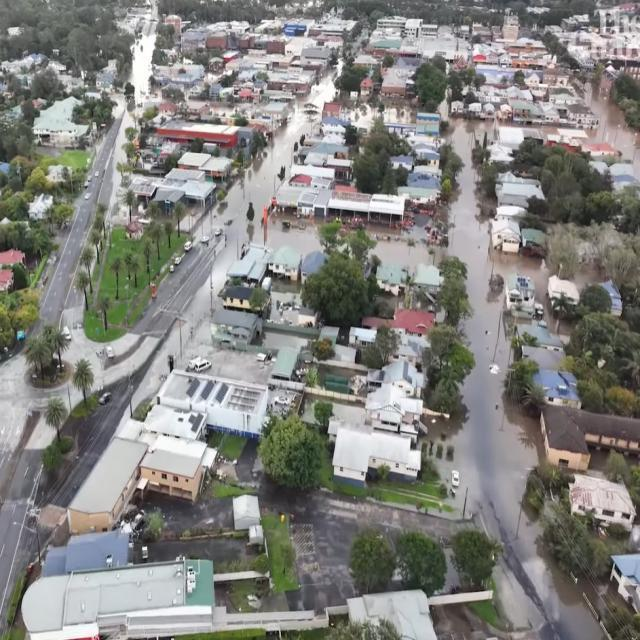flood: (449, 119, 608, 640), (221, 75, 335, 262), (587, 89, 640, 170), (369, 226, 440, 272), (267, 217, 321, 256), (130, 27, 156, 104), (212, 245, 234, 314)
house: (33, 549, 218, 635), (61, 438, 150, 533), (160, 371, 265, 438), (330, 414, 426, 487), (138, 436, 212, 504), (568, 473, 634, 537), (537, 402, 590, 472), (332, 192, 408, 234), (272, 172, 334, 222), (610, 548, 640, 624), (547, 272, 582, 324), (1, 244, 28, 298), (510, 273, 540, 320), (385, 359, 420, 396), (230, 493, 262, 532), (516, 224, 546, 264), (36, 124, 87, 146), (492, 218, 522, 252), (270, 69, 310, 93), (222, 282, 252, 310), (568, 103, 599, 127), (416, 112, 440, 136), (376, 15, 406, 32), (510, 100, 533, 122), (320, 116, 348, 134), (406, 18, 422, 38), (422, 22, 438, 37), (525, 71, 541, 85)
